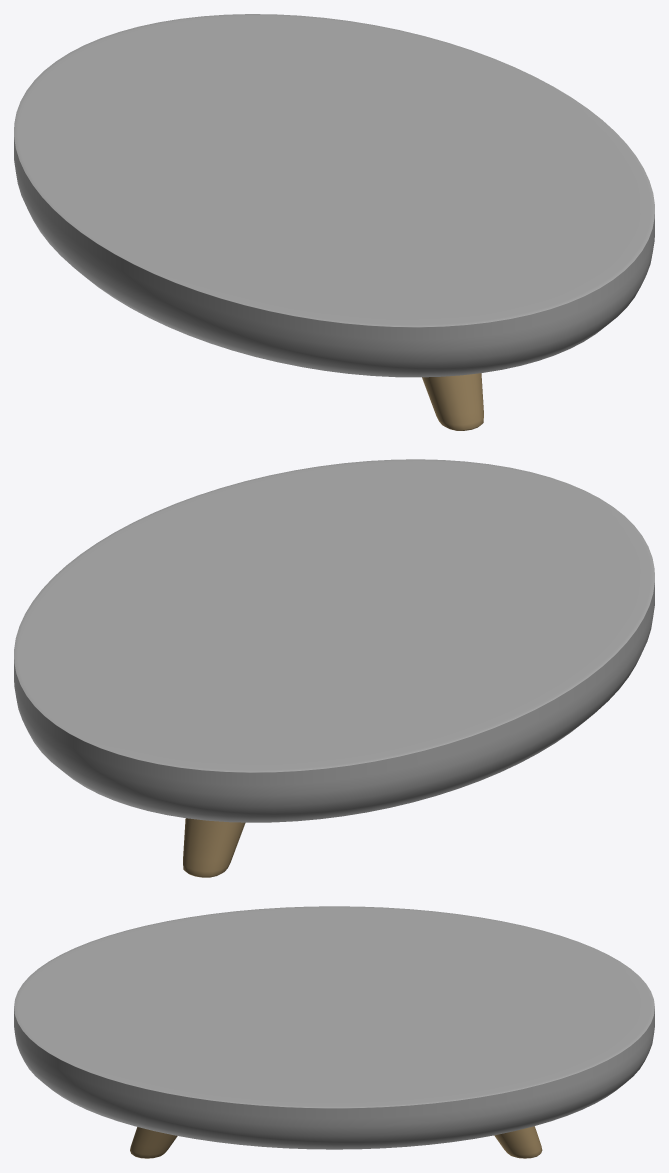
Rendered from MM_MesaCentro.fbx.
The picture shows the model from 3 angles, top to bottom: view 1: azimuth 30°, elevation 25°; view 2: azimuth 150°, elevation 25°; view 3: azimuth 270°, elevation 25°; orthographic projection. The views are drawn at different scales.
Parts seen in each view (by area): view 1: Mesa_centroShape; view 2: Mesa_centroShape; view 3: Mesa_centroShape.
Boxes of the visible parts, box(x1,y1,x2,y2) form: Mesa_centroShape: box(14, 14, 654, 430); Mesa_centroShape: box(14, 459, 654, 877); Mesa_centroShape: box(14, 906, 654, 1158).
Bounding box in the file's own units: 9.31 × 3.02 × 12.49.
